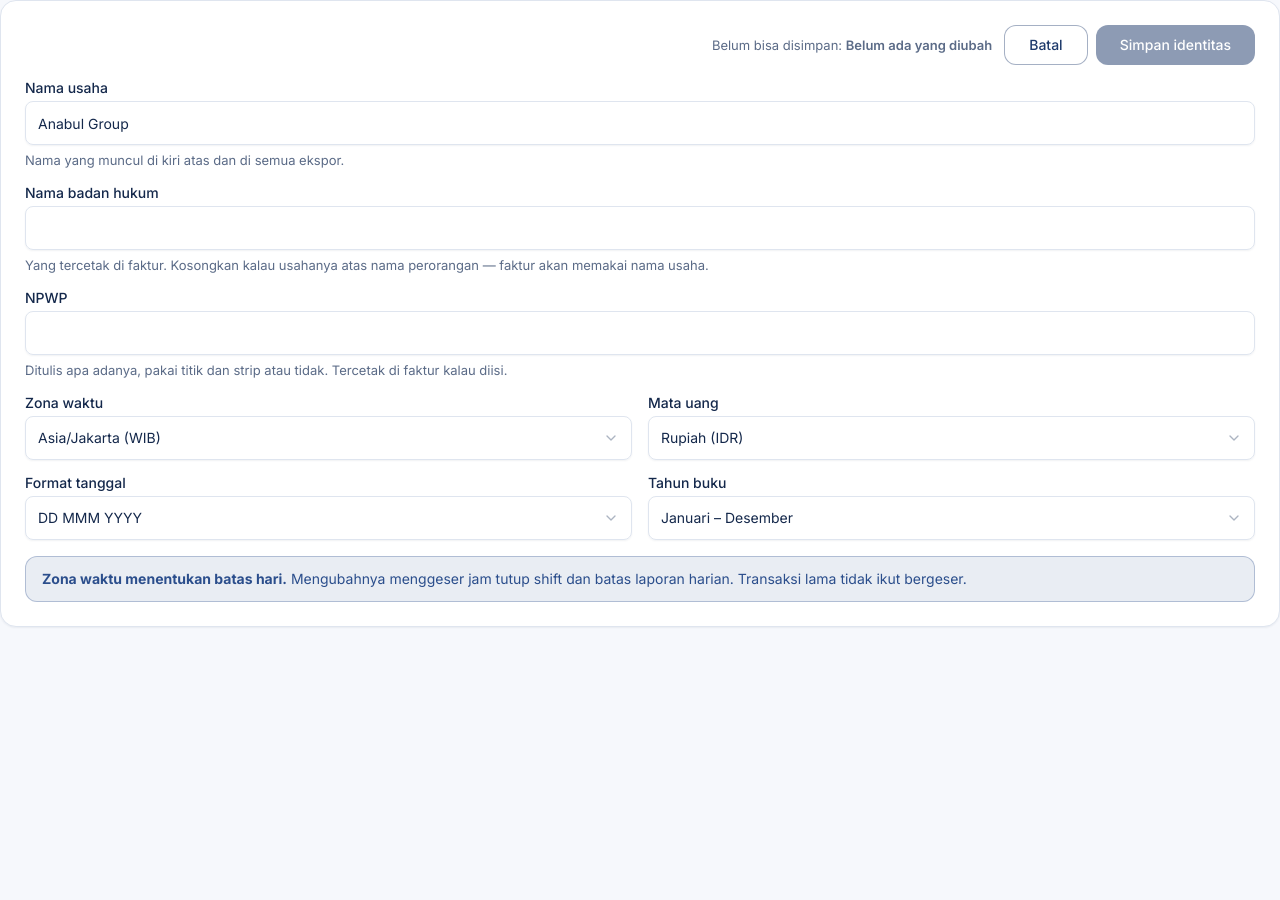
it: TenantIdentityForm › keeps Simpan shut until something changes, and while the name is empty
The image size is (1280, 900).
Expected: the button "Simpan identitas" is disabled, [1096,25,1255,65]
Clear the field labelled "Nama usaha" at (640, 123), box [25,101,1255,145]
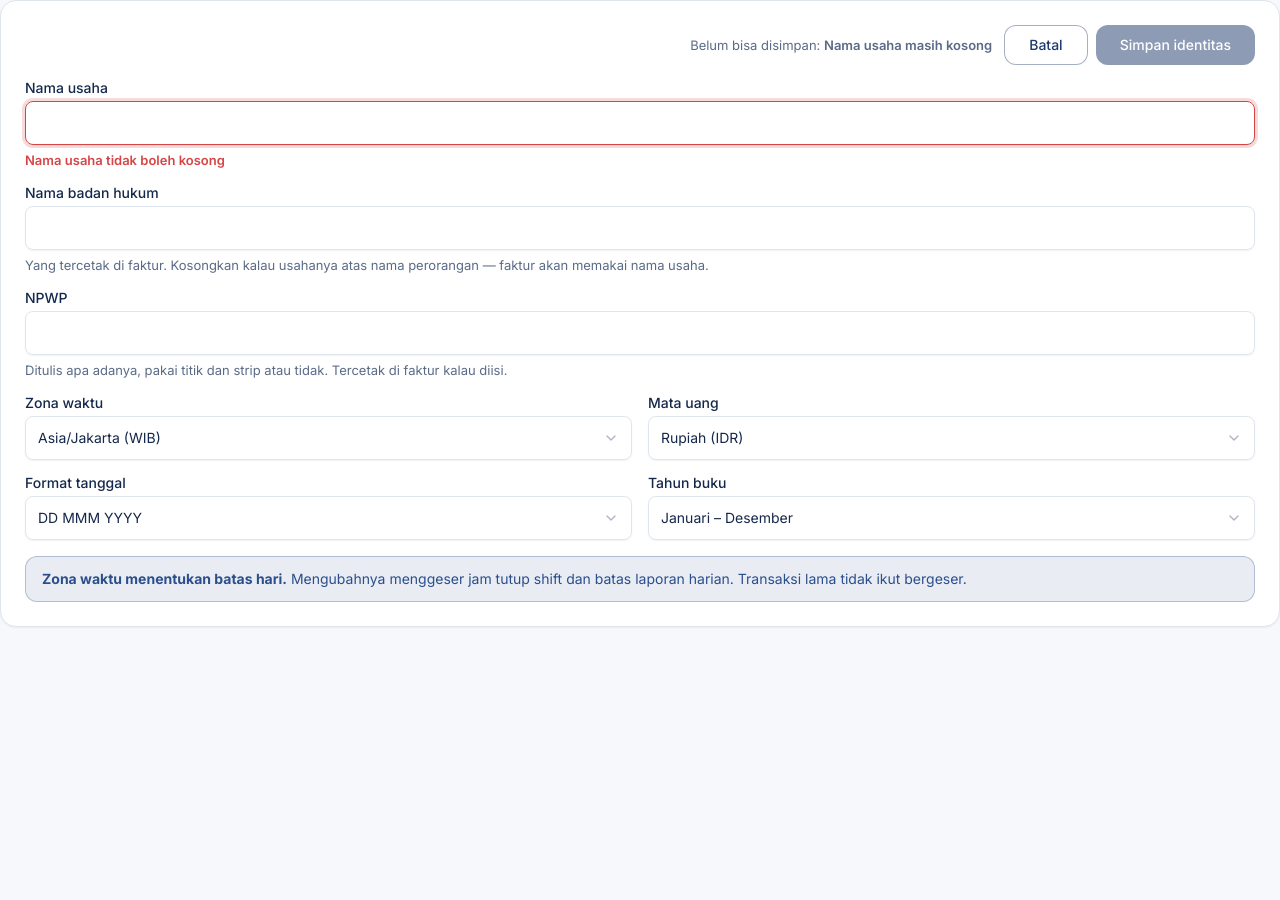
Expected: the button "Simpan identitas" is disabled, [1096,25,1255,65]
Expected: the text "Nama usaha tidak boleh kosong" is shown, [25,152,225,168]
